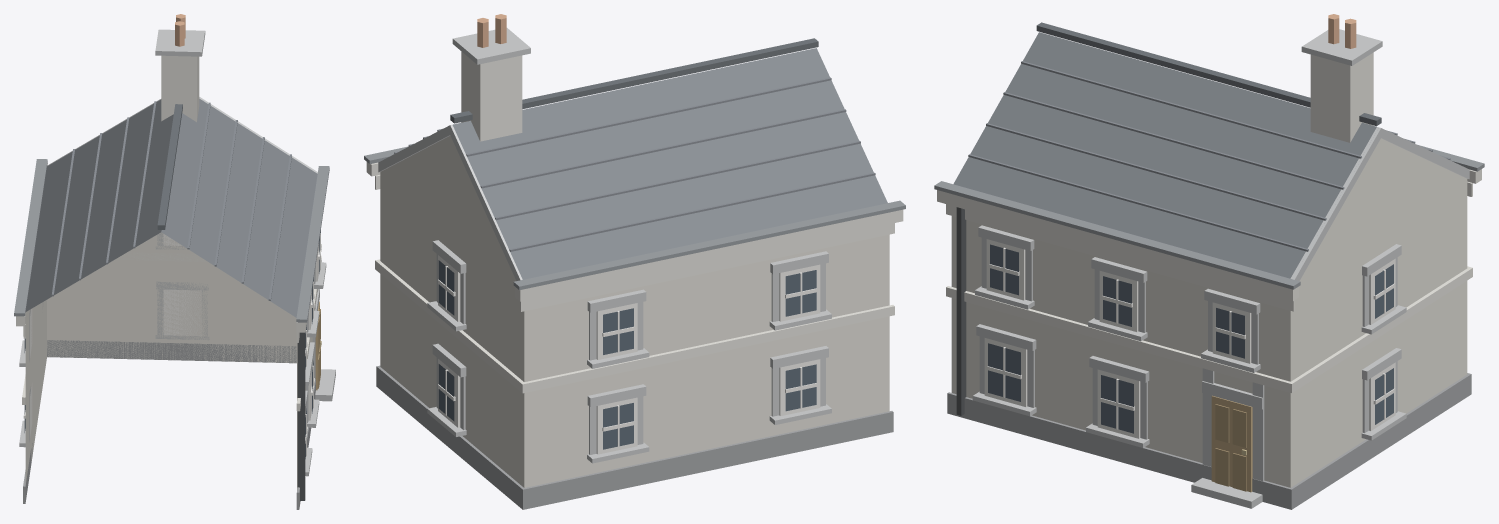
3 views of the same model, side by side, from view 1: azimuth 30°, elevation 25°; view 2: azimuth 150°, elevation 25°; view 3: azimuth 270°, elevation 25° (orthographic). The views are drawn at different scales.
Parts seen in each view (by area): view 1: slate, harl_grey, stone_band, plinth, lead, slate_lt, frame, chim_render, pipe, slate_dk, string; view 2: harl_grey, slate, string, stone_band, plinth, frame, slate_lt, chim_render, lead, slate_dk, window_glass_011, window_glass_010 (+5 smaller); view 3: harl_grey, slate, stone_band, string, plinth, frame, slate_lt, chim_render, lead, slate_dk, pipe, door_wood_p (+9 smaller).
Part boxes in pixels (<box>): slate: <box>25,98,317,317</box>; harl_grey: <box>25,232,312,489</box>; stone_band: <box>19,29,335,476</box>; plinth: <box>23,340,315,509</box>; lead: <box>14,159,329,322</box>; slate_lt: <box>51,101,291,300</box>; frame: <box>23,233,321,456</box>; chim_render: <box>161,55,199,122</box>; pipe: <box>297,332,305,500</box>; slate_dk: <box>157,104,182,229</box>; string: <box>16,164,321,411</box>; harl_grey: <box>380,135,889,487</box>; slate: <box>452,48,887,279</box>; string: <box>366,162,903,393</box>; stone_band: <box>378,28,831,463</box>; plinth: <box>376,365,893,509</box>; frame: <box>438,255,820,454</box>; slate_lt: <box>394,77,875,251</box>; chim_render: <box>461,51,522,141</box>; lead: <box>364,146,905,290</box>; slate_dk: <box>450,38,818,123</box>; window_glass_011: <box>785,270,816,316</box>; window_glass_010: <box>785,364,816,411</box>; harl_grey: <box>951,138,1467,487</box>; slate: <box>953,32,1376,278</box>; stone_band: <box>972,29,1469,508</box>; string: <box>937,169,1481,392</box>; plinth: <box>947,373,1471,509</box>; frame: <box>984,239,1395,438</box>; slate_lt: <box>968,61,1450,251</box>; chim_render: <box>1310,52,1373,142</box>; lead: <box>934,144,1484,289</box>; slate_dk: <box>1036,22,1381,126</box>; pipe: <box>956,207,966,415</box>; door_wood_p: <box>1215,404,1246,491</box>.
Bounding box in the file's own units: 10.63 × 9.35 × 11.05.
